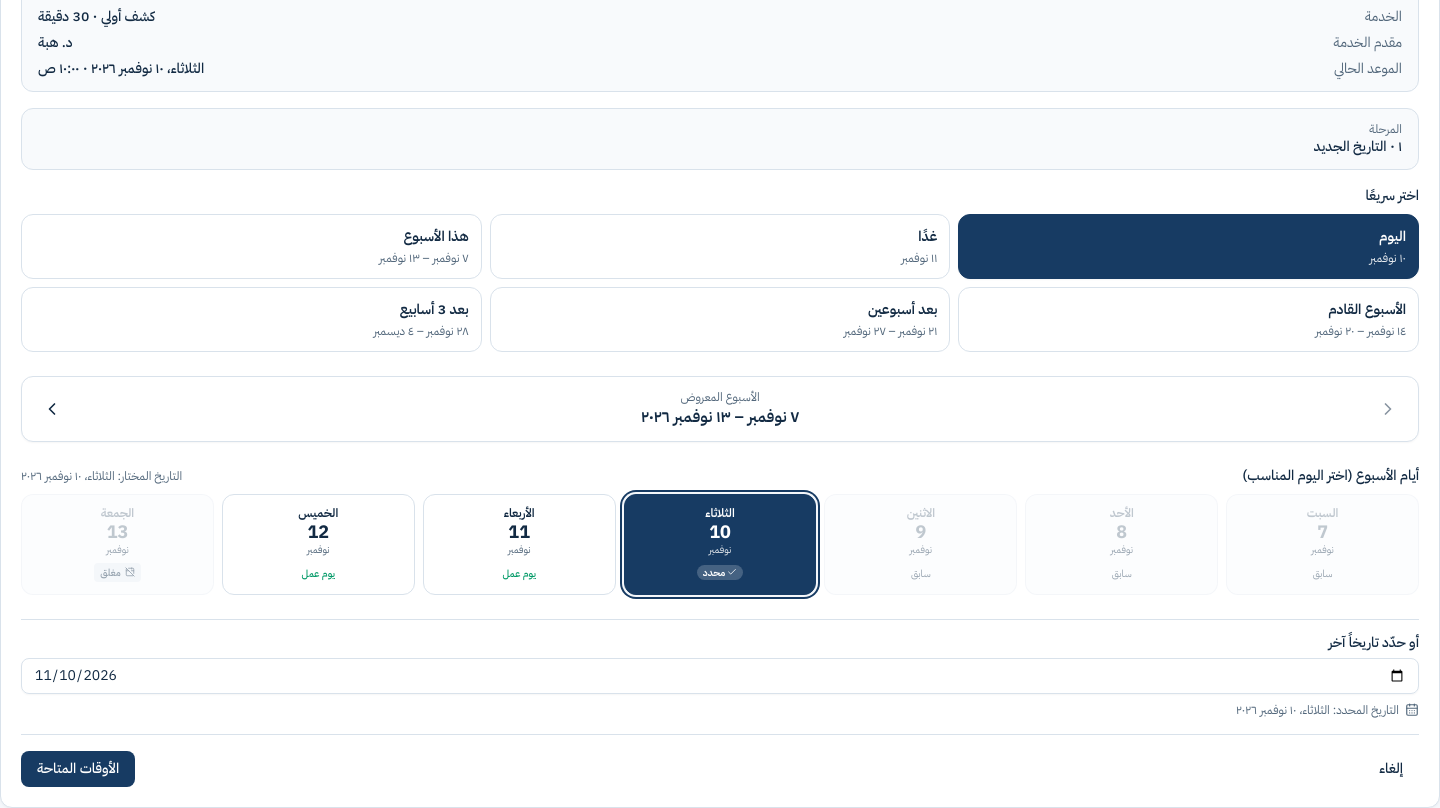
Test: ReschedulePanel mounted integration tests (ISS-005) › 7. handles slot selection and review card presentation
The image size is (1440, 808).
(page scrolled)
Click the button "الأوقات المتاحة".
click(78, 769)  # box [21,751,135,787]
(page scrolled)
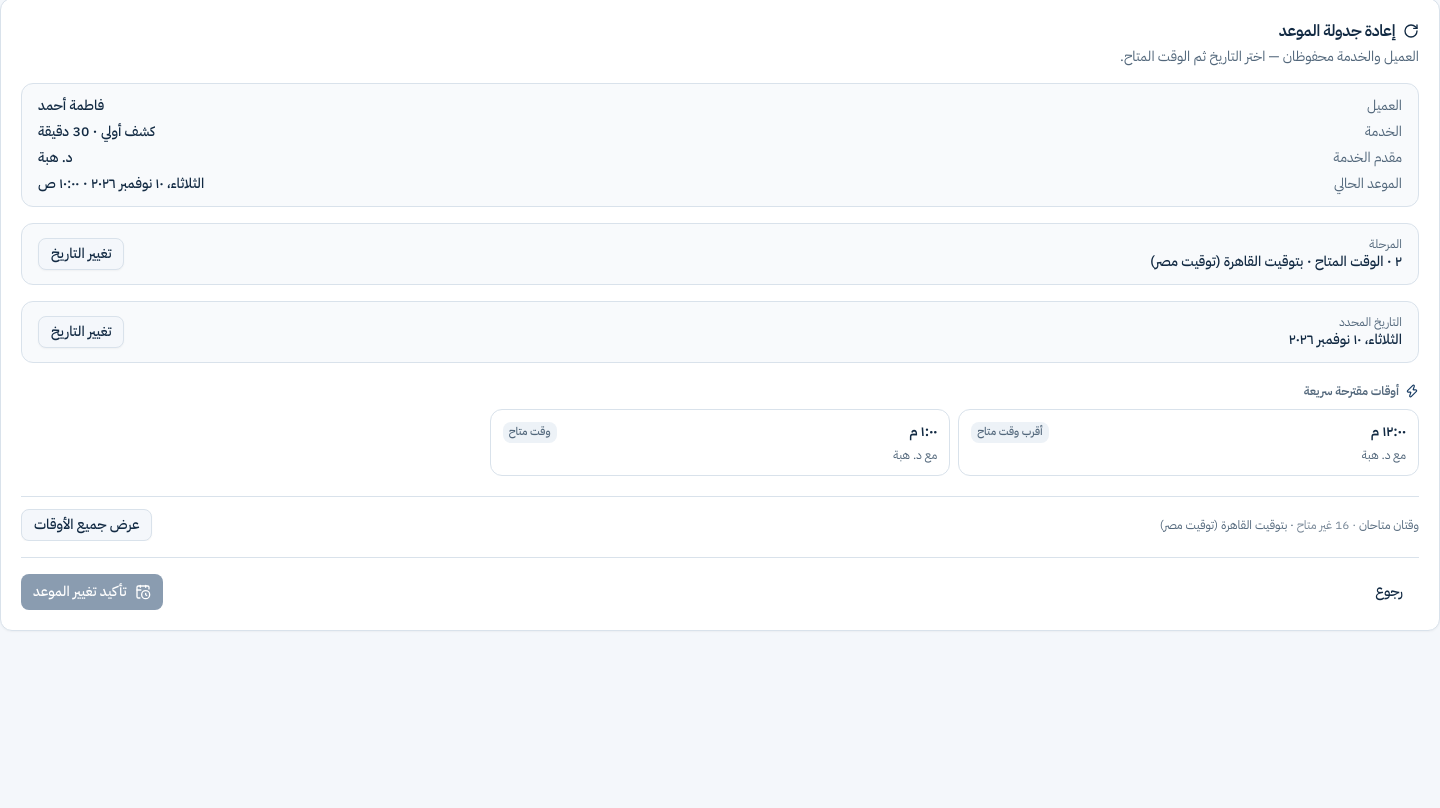
Expected: the button "١٢:٠٠ م أقرب وقت متاح مع د. هبة" is shown
Click the button "١٢:٠٠ م أقرب وقت متاح مع د. هبة".
click(1010, 432)  # box [958,409,1419,476]
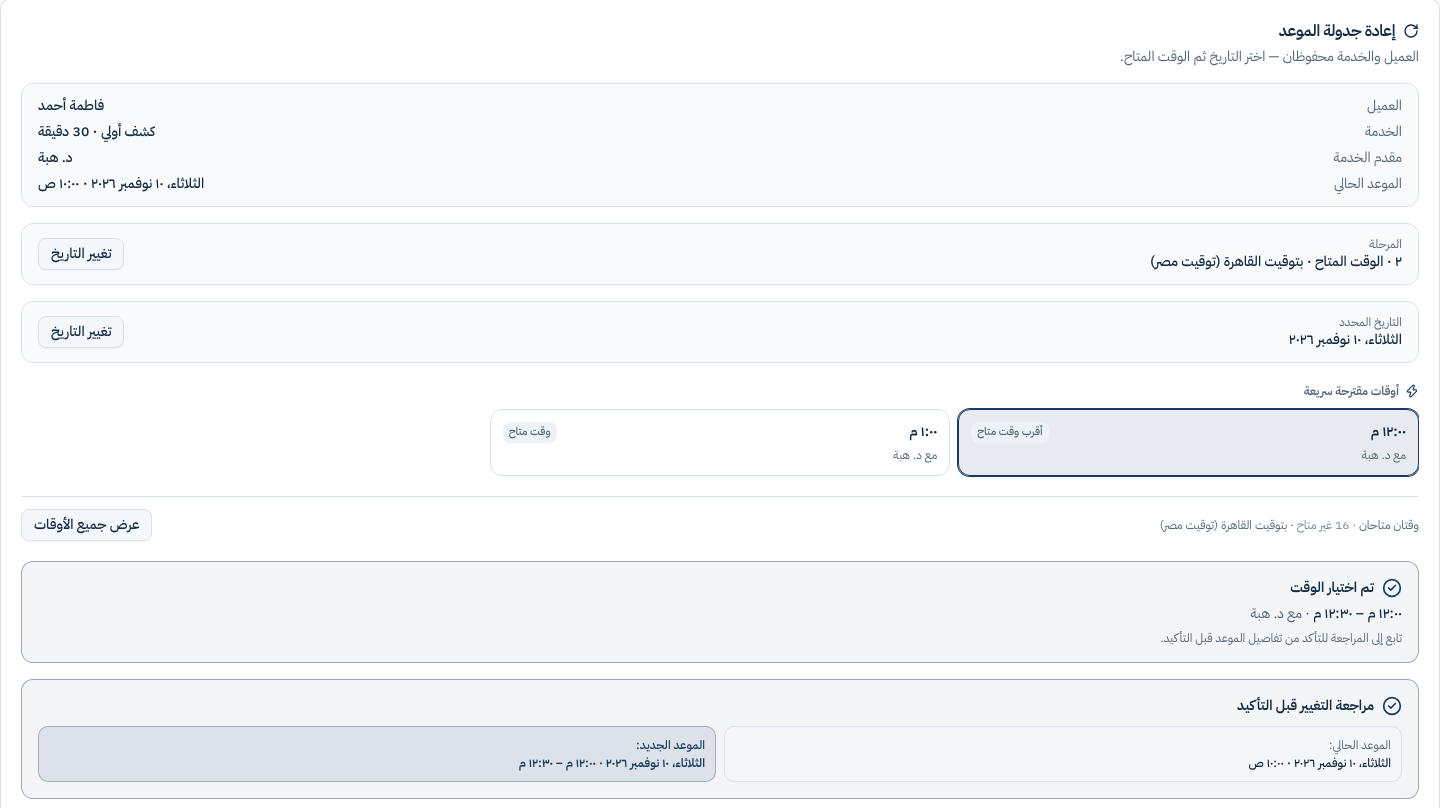
Expected: the text "مراجعة التغيير قبل التأكيد" is shown, [1237,694,1402,716]
Expected: the text "الموعد الجديد:" is shown, [636,736,705,754]
